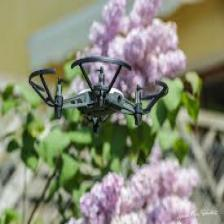drone: (28, 54, 168, 125)
